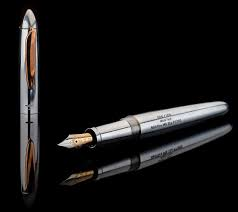qillqana: (49, 94, 233, 153)
